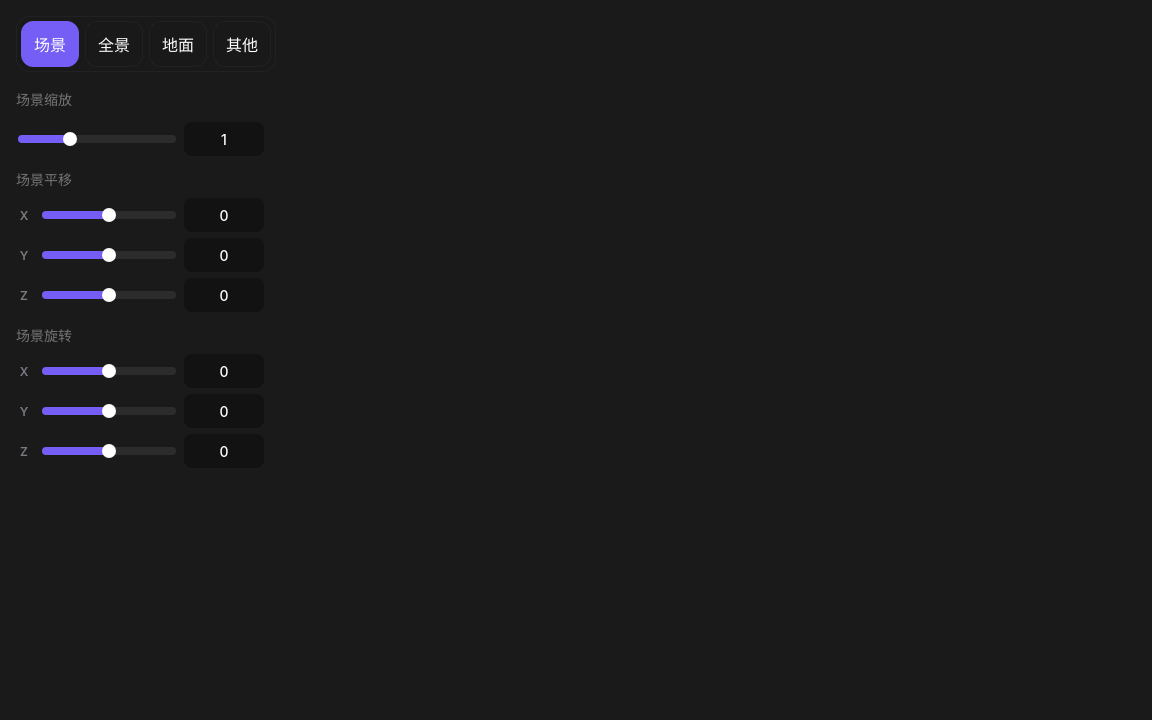
Scenario: opens the one-column panorama preset picker from the empty state
The image size is (1152, 720).
Click the button "全景".
click(114, 44)  # box x1=85 y1=21 x2=143 y2=67
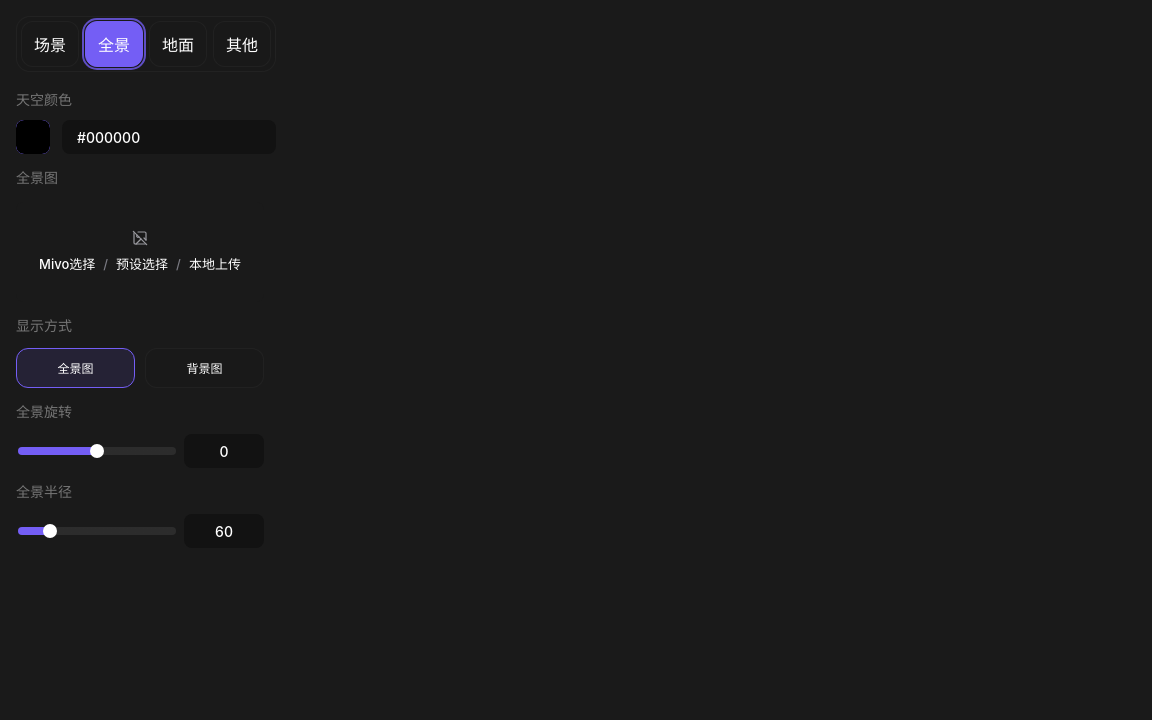
Click the button "预设选择".
click(142, 264)  # box x1=116 y1=254 x2=168 y2=274
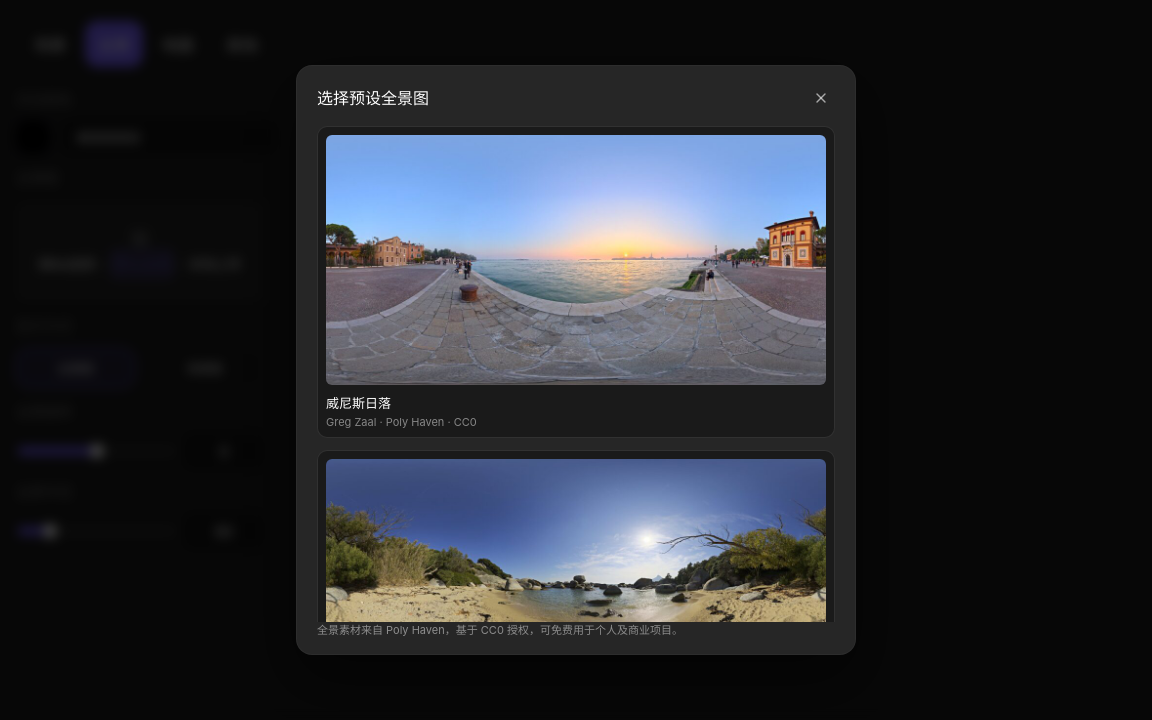
Result: the dialog "选择预设全景图" is shown at x1=296 y1=65 x2=856 y2=655
Result: the number of buttons named "选择" is 10
